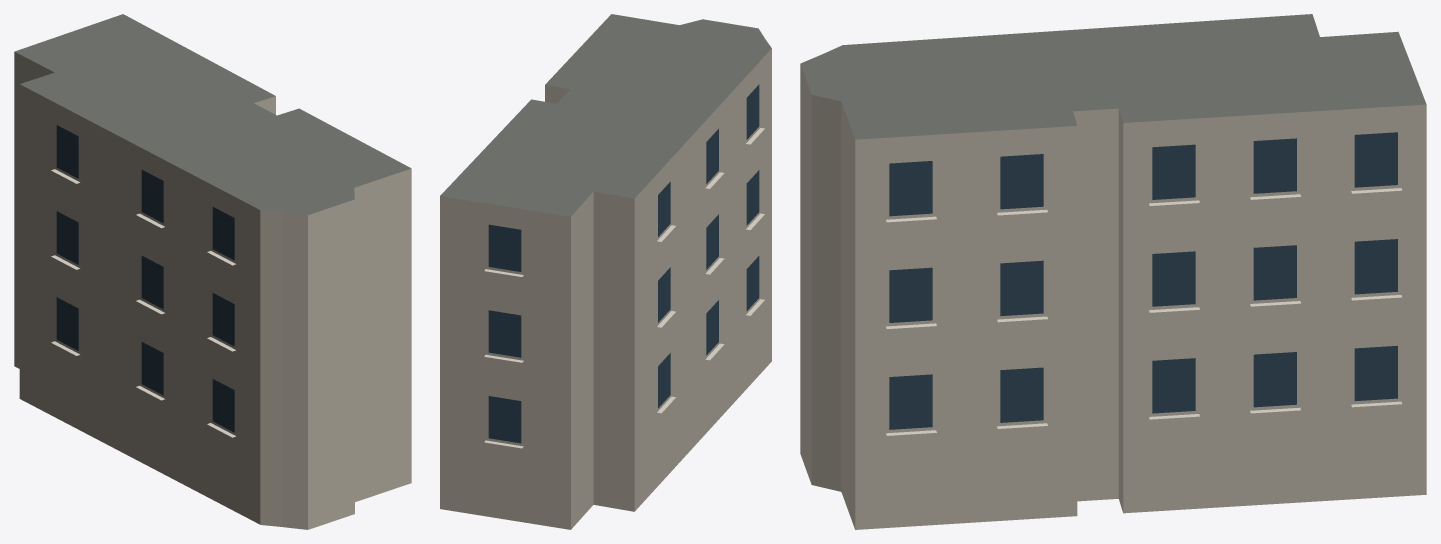
3 renders of one model, left to right at view 1: azimuth 30°, elevation 25°; view 2: azimuth 150°, elevation 25°; view 3: azimuth 270°, elevation 25°, orthographic. The views are drawn at different scales.
Visible parts, largest first — view 1: Footprint 0, Inferred window bays, Window sills; view 2: Footprint 0, Inferred window bays, Window sills; view 3: Footprint 0, Inferred window bays, Window sills.
Part boxes in pixels (left/top/right/bottom): Footprint 0: left=14, top=14, right=411, bottom=529; Inferred window bays: left=56, top=125, right=234, bottom=432; Window sills: left=51, top=169, right=235, bottom=437; Footprint 0: left=440, top=14, right=771, bottom=529; Inferred window bays: left=488, top=84, right=759, bottom=443; Window sills: left=484, top=128, right=764, bottom=448; Footprint 0: left=800, top=14, right=1426, bottom=529; Inferred window bays: left=889, top=132, right=1397, bottom=429; Window sills: left=886, top=188, right=1402, bottom=435.
Bounding box in the file's own units: 8.53 × 12.2 × 17.74.
